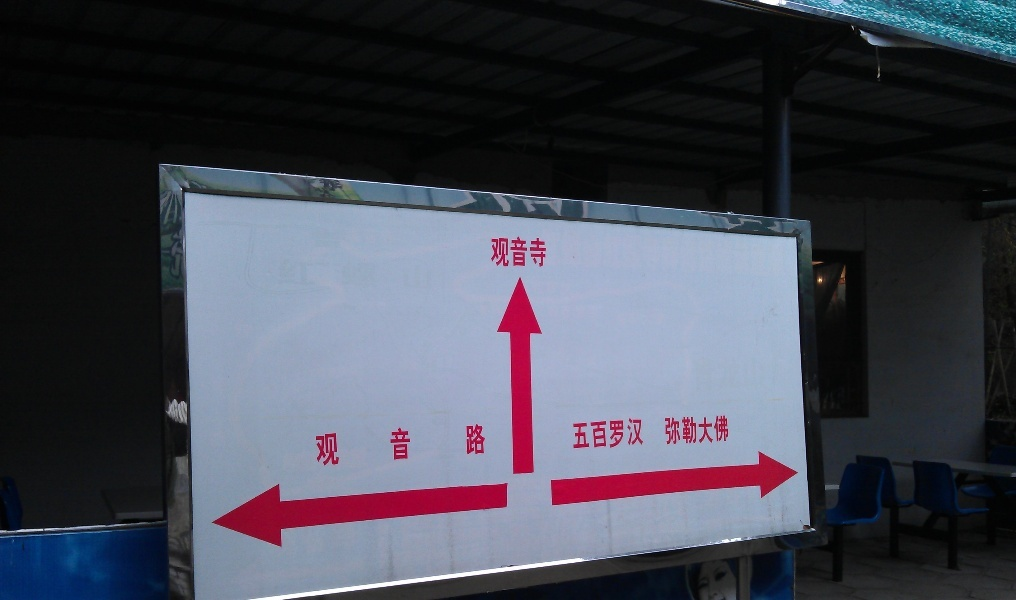text: (321, 423, 336, 467), (337, 423, 352, 467), (353, 423, 368, 467), (369, 423, 384, 467), (385, 423, 400, 467), (401, 423, 416, 467), (417, 423, 432, 467), (433, 423, 448, 467), (449, 423, 464, 467), (465, 423, 480, 467), (577, 418, 592, 452), (593, 418, 608, 452), (609, 418, 624, 452), (625, 418, 640, 452), (497, 235, 512, 268), (513, 235, 528, 268), (529, 235, 544, 268), (673, 414, 688, 447), (689, 414, 704, 447), (705, 414, 720, 447), (721, 414, 730, 447), (481, 423, 487, 467), (665, 414, 672, 447), (315, 423, 320, 467), (491, 235, 496, 268), (572, 418, 576, 452), (641, 418, 645, 452), (545, 235, 547, 268)
